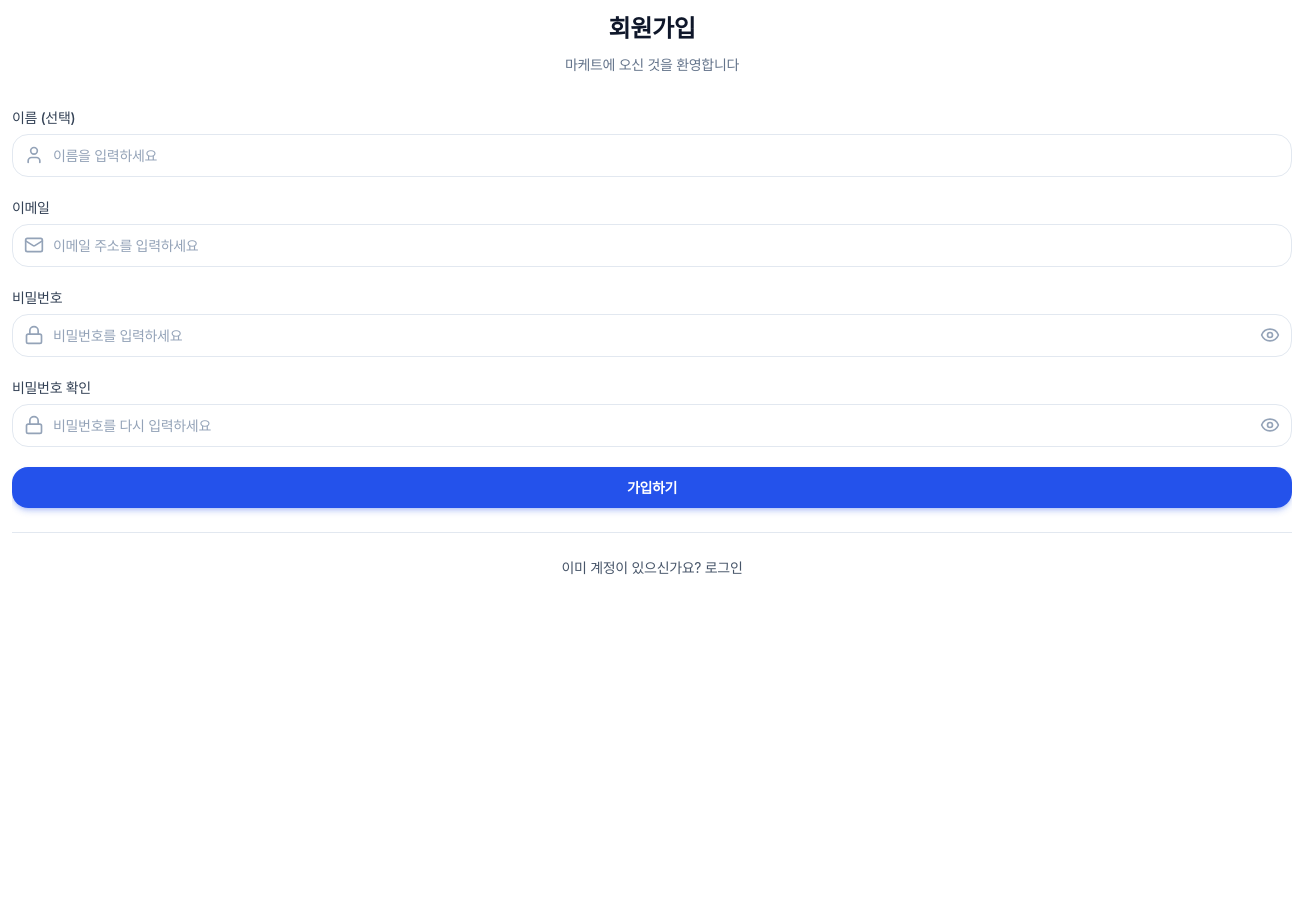
SignUpPage › 회원가입 실패 › 네트워크 오류 시 에러 메시지를 표시한다
In the field labelled "이메일": {"x": 652, "y": 245} [12,224,1292,267], type "test@example.com"
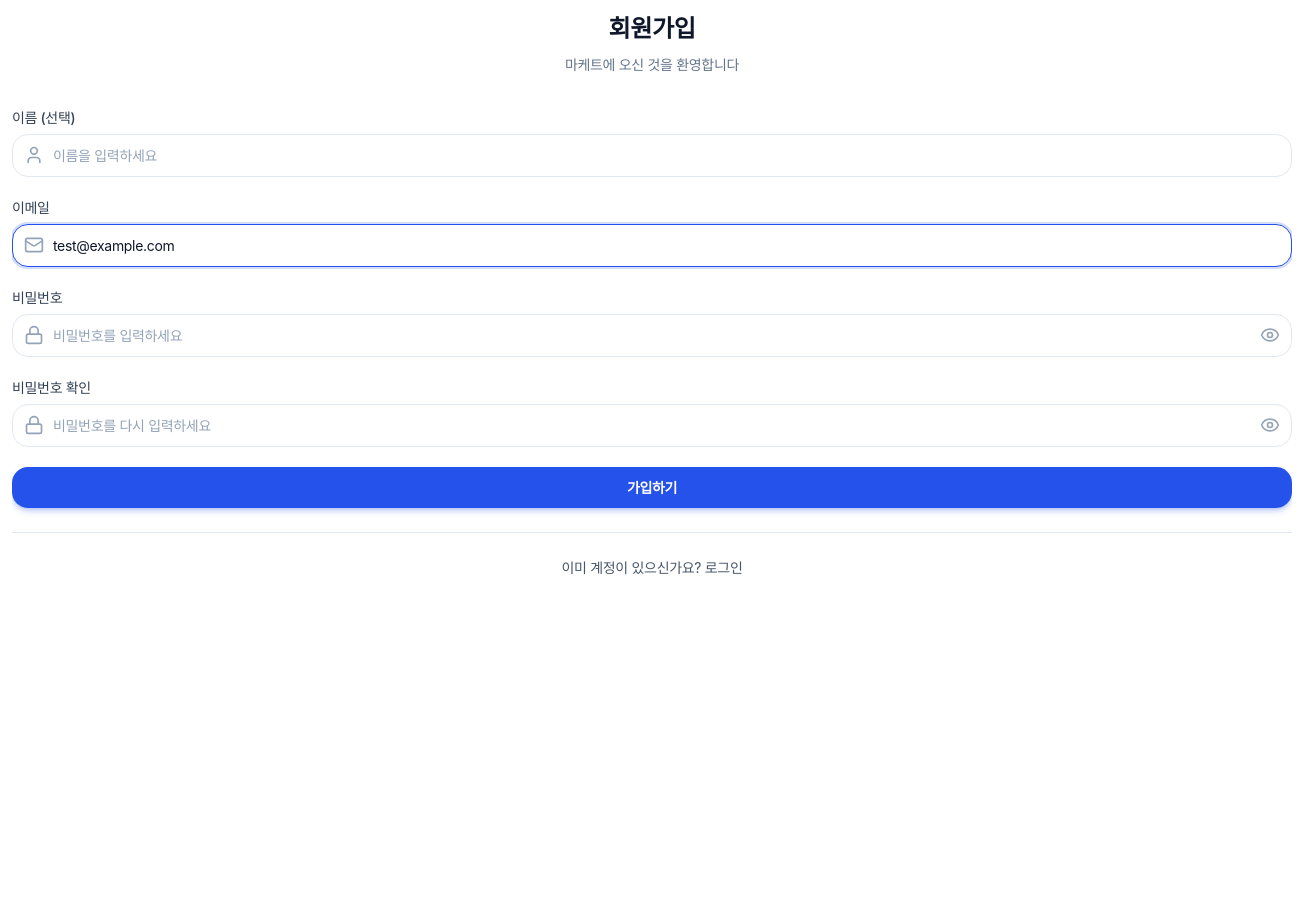
In the password field labelled "비밀번호": {"x": 652, "y": 335} [12,314,1292,357], type "Password123"
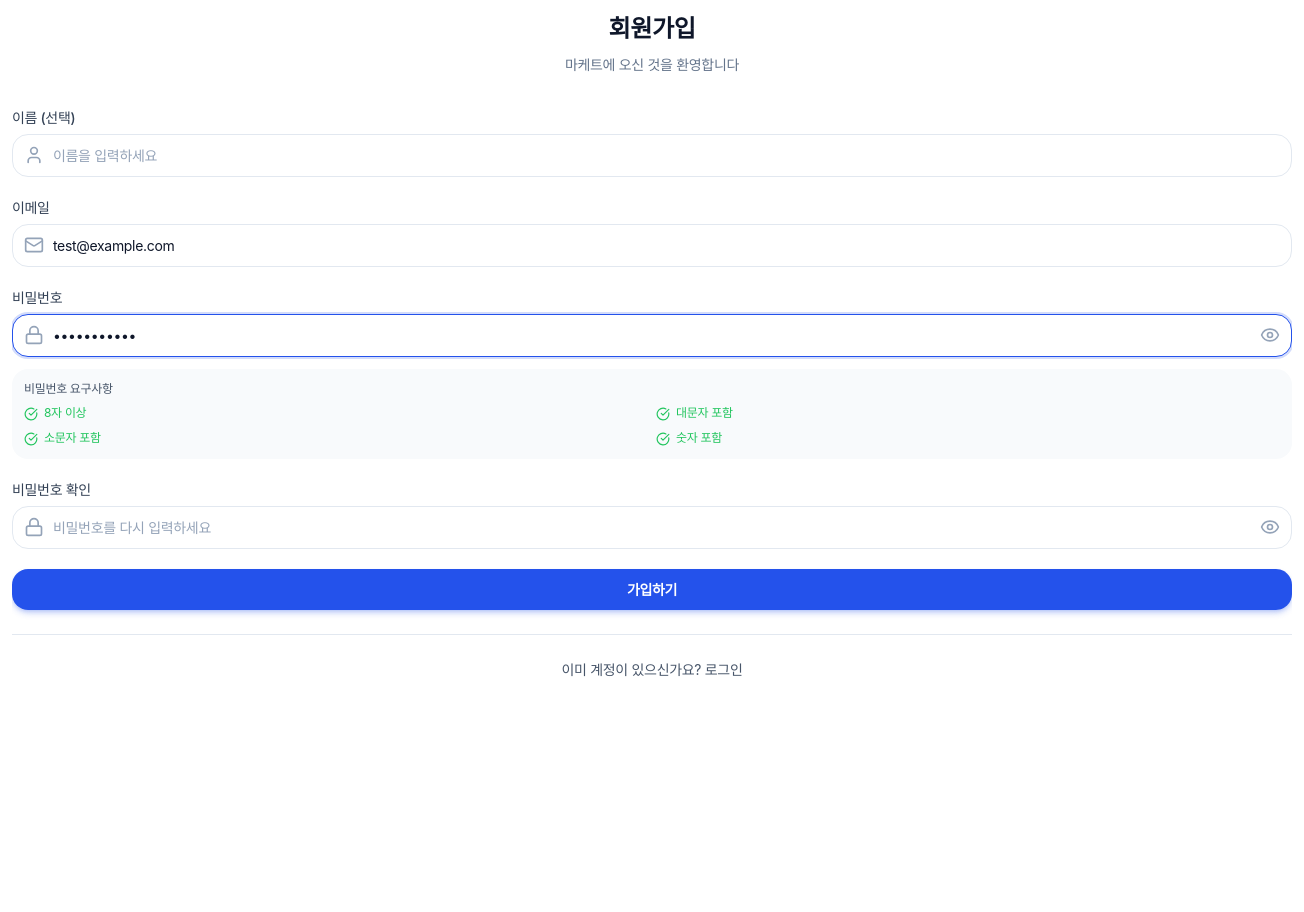
In the password field labelled "비밀번호 확인": {"x": 652, "y": 528} [12,506,1292,549], type "Password123"
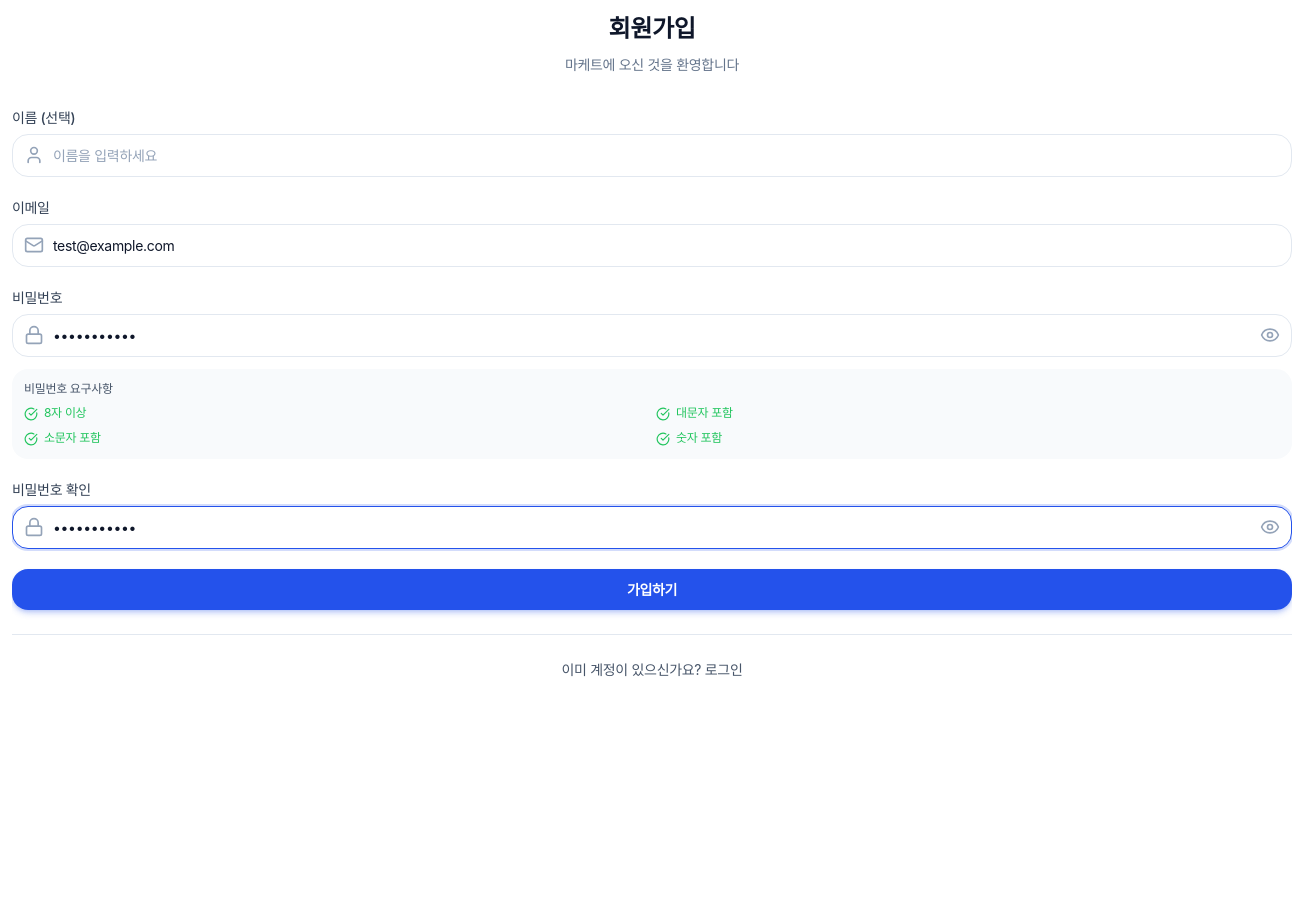
Click the button "가입하기": {"x": 652, "y": 590} [12,569,1292,610]
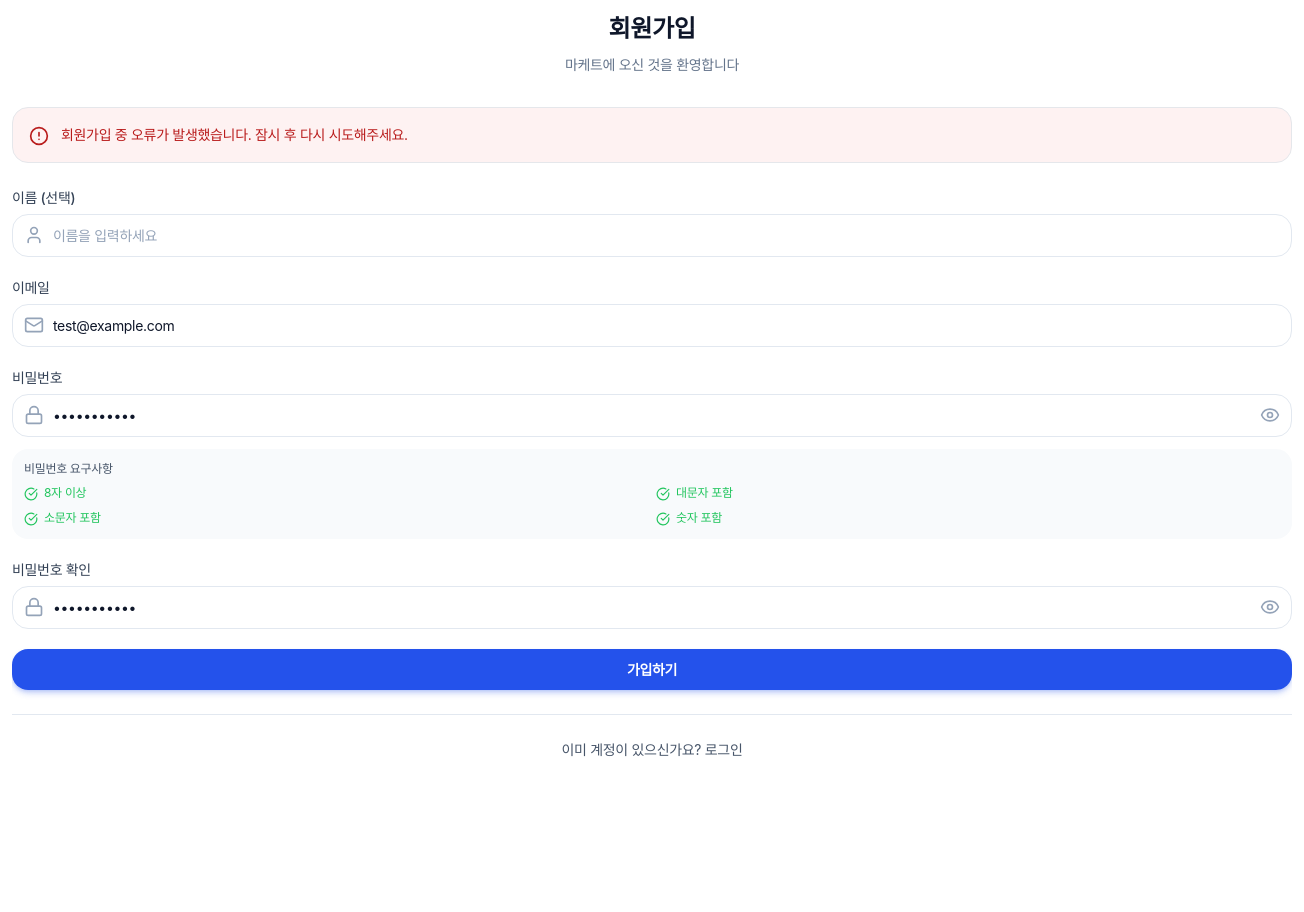
Expected: the message "회원가입 중 오류가 발생했습니다. 잠시 후 다시 시도해주세요." is shown, [12,107,1292,163]
Expected: the text "회원가입 중 오류가 발생했습니다. 잠시 후 다시 시도해주세요." is shown, [61,124,408,145]
